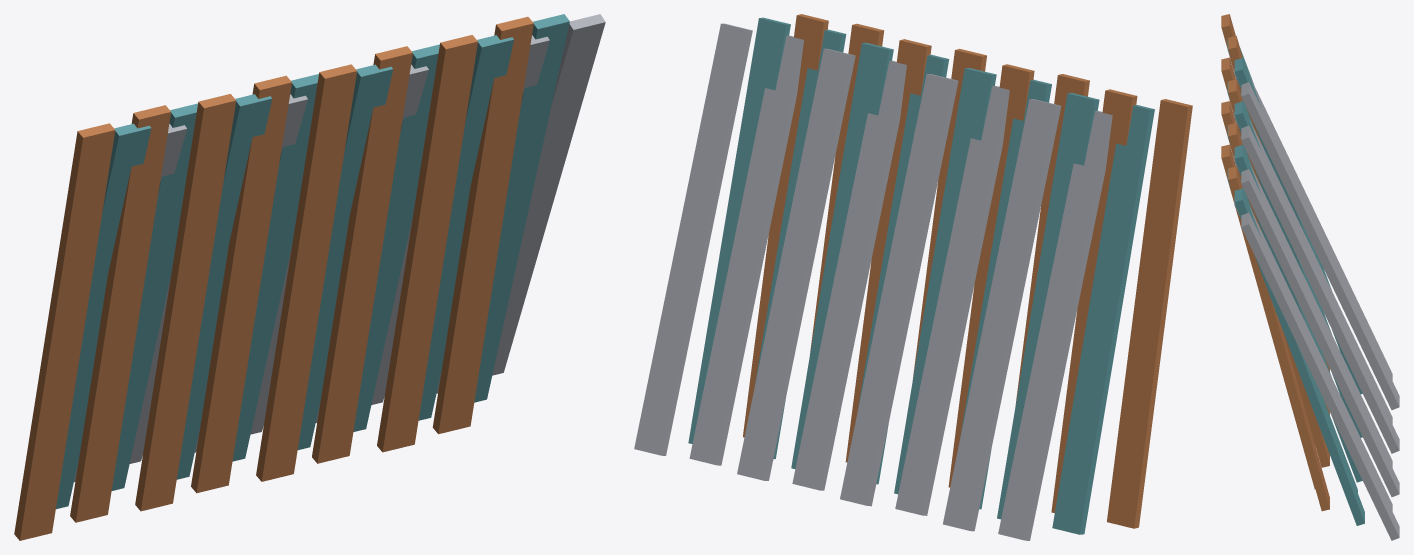
Rendered from env_corrugated_sheets.glb.
3 views of the same model, side by side, from view 1: azimuth 30°, elevation 25°; view 2: azimuth 150°, elevation 25°; view 3: azimuth 270°, elevation 25° (orthographic). The views are drawn at different scales.
Parts seen in each view (by area): view 1: env_corrugated_sheets; view 2: env_corrugated_sheets; view 3: env_corrugated_sheets.
Boxes of the visible parts, <box> form: env_corrugated_sheets: <box>14,14,605,540</box>; env_corrugated_sheets: <box>634,14,1192,540</box>; env_corrugated_sheets: <box>1221,14,1399,540</box>.
Bounding box in the file's own units: 2.66 × 2.15 × 1.04.
